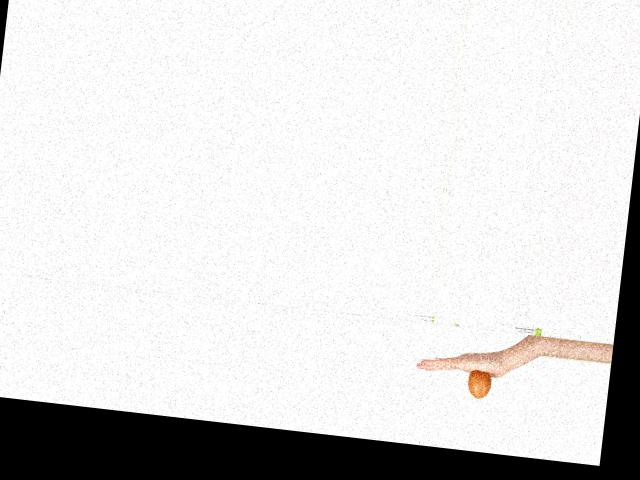egg: (465, 368, 491, 399)
